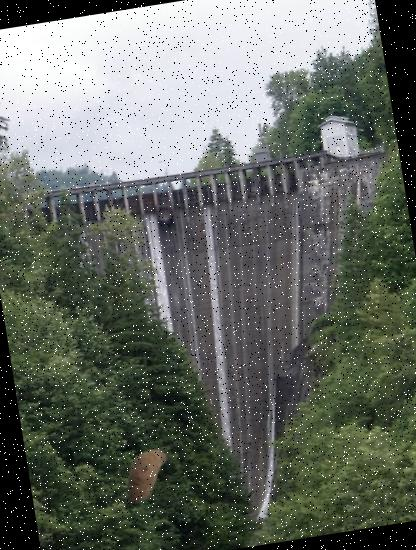Potato: (110, 442, 180, 512)
